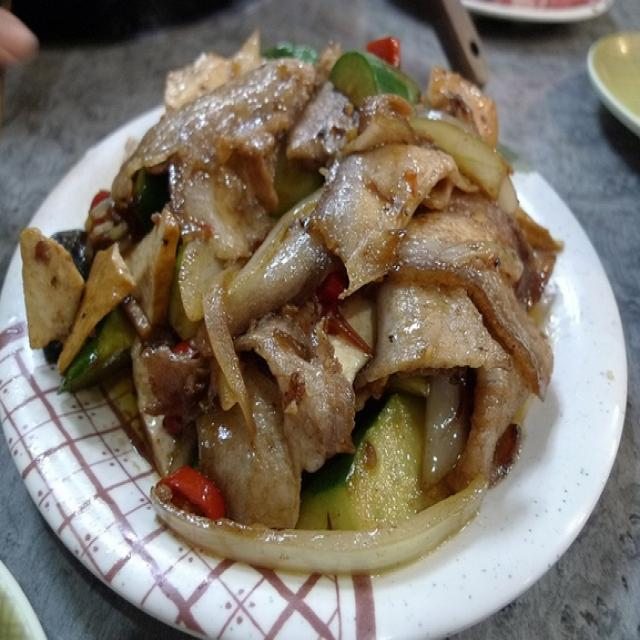猪肉菜式: (35, 34, 589, 585)
